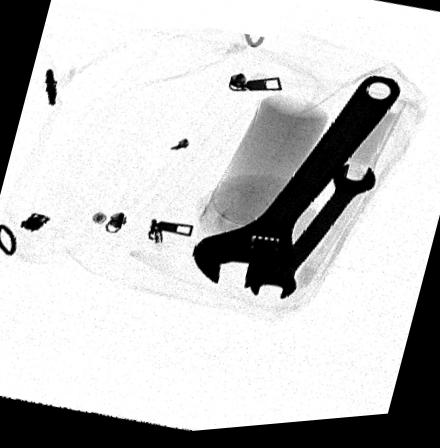Wrench: (193, 83, 399, 290), (249, 170, 376, 304)
